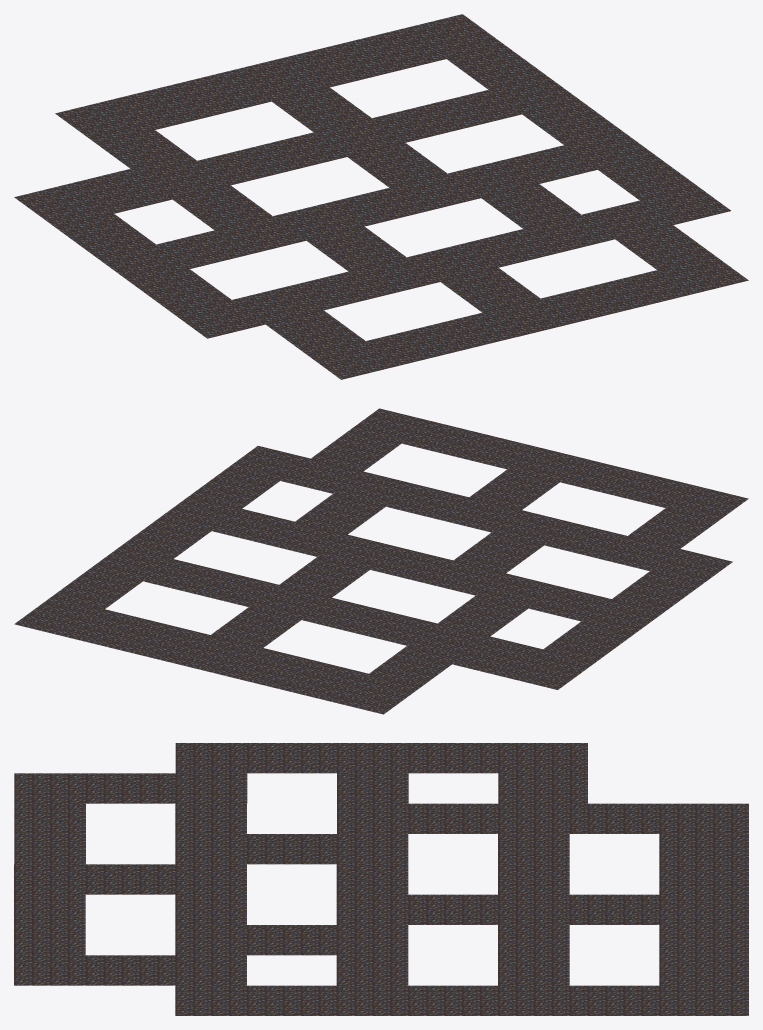
Rendered from JAM23_MAPCOBBLE.fbx.
3 renders of one model, top to bottom at view 1: azimuth 30°, elevation 25°; view 2: azimuth 150°, elevation 25°; view 3: azimuth 270°, elevation 25°, orthographic. The views are drawn at different scales.
Visible parts, largest first — view 1: Plane275; view 2: Plane275; view 3: Plane275.
Boxes of the visible parts, x1=… form: Plane275: x1=14, y1=14, x2=748, y2=379; Plane275: x1=14, y1=408, x2=748, y2=714; Plane275: x1=14, y1=743, x2=748, y2=1015.
Size of the model in its own units: 36 by 2.38e-07 by 41.
